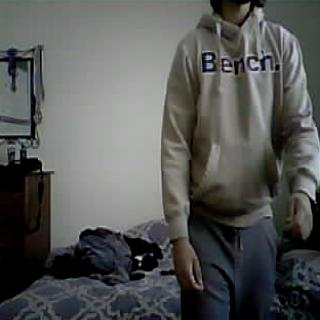Gray Sweatpants: (185, 212, 281, 320)
Yellow Hoodie: (164, 20, 316, 208)
